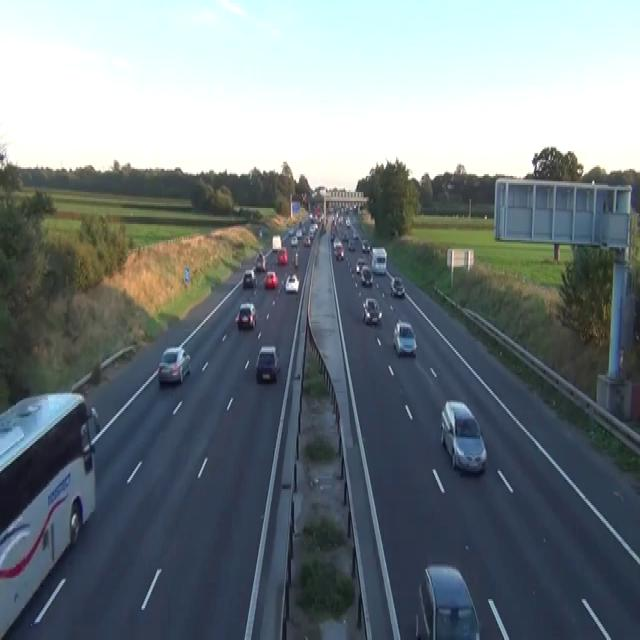Car: (414, 564, 480, 638), (440, 400, 487, 473), (157, 345, 191, 384), (255, 345, 280, 382), (393, 320, 417, 357), (236, 300, 256, 329), (362, 297, 382, 323), (390, 275, 405, 297), (284, 272, 299, 293), (242, 268, 256, 288), (360, 265, 373, 286), (263, 270, 278, 288), (277, 247, 288, 265), (255, 252, 266, 270), (355, 258, 365, 274), (335, 246, 344, 260), (332, 238, 342, 249), (361, 240, 370, 252), (347, 240, 355, 251), (303, 235, 311, 245), (290, 235, 298, 245), (446, 182, 455, 190), (308, 226, 315, 236), (294, 250, 298, 266), (341, 231, 348, 240), (352, 230, 358, 238), (296, 228, 302, 236), (345, 217, 350, 226), (321, 224, 326, 233), (252, 265, 257, 274), (330, 231, 334, 242), (288, 228, 294, 235), (353, 202, 357, 210), (309, 212, 313, 220), (259, 228, 262, 236)
Truck: (0, 390, 99, 638), (371, 247, 387, 274), (271, 234, 281, 250)
